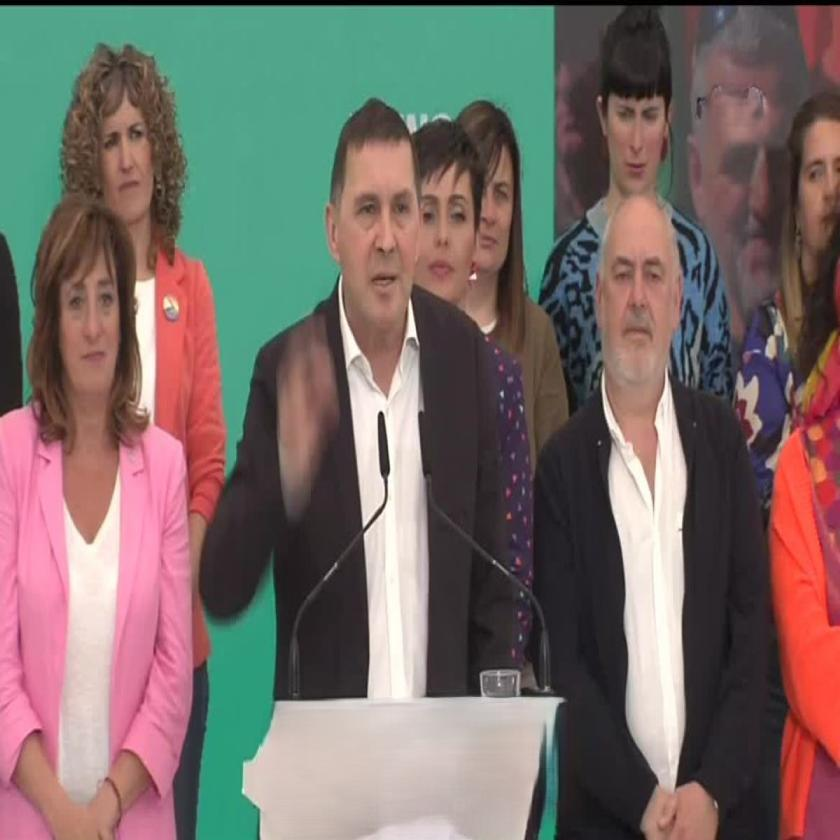Sin_casco: (329, 87, 420, 349), (594, 190, 690, 422), (43, 196, 136, 426), (71, 39, 176, 239), (405, 112, 486, 325), (600, 0, 675, 209), (459, 97, 529, 302), (789, 88, 840, 254)
